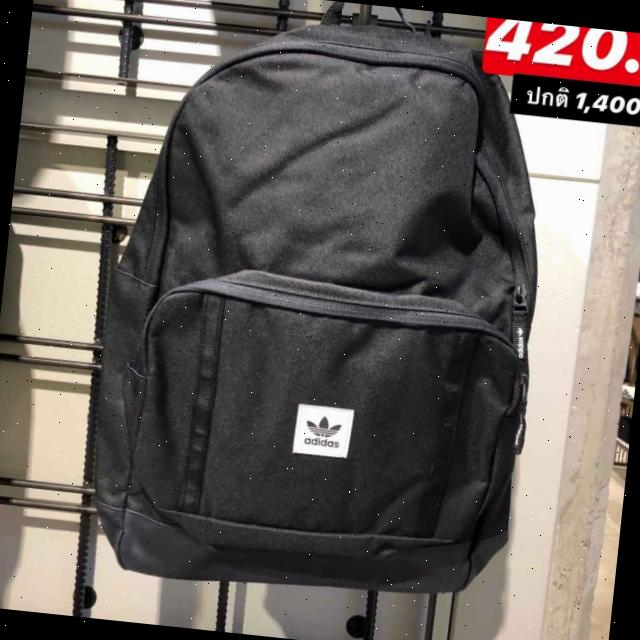handbag: (69, 0, 558, 603)
